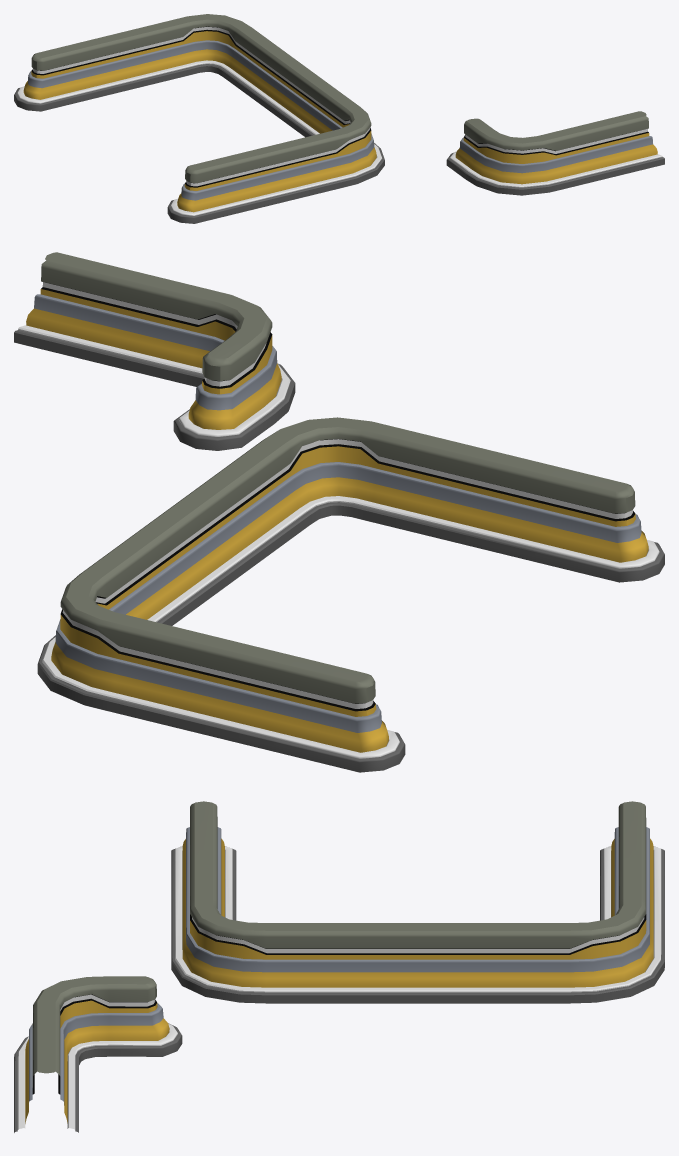
The model's file is Level9_Small_walls.fbx.
3 renders of one model, top to bottom at view 1: azimuth 30°, elevation 25°; view 2: azimuth 150°, elevation 25°; view 3: azimuth 270°, elevation 25°, orthographic. The views are drawn at different scales.
Parts seen in each view (by area): view 1: Small_wall_L9, Small_wall_L2; view 2: Small_wall_L9, Small_wall_L2; view 3: Small_wall_L9, Small_wall_L2.
Part boxes in pixels (x1,y1,x2,y2): Small_wall_L9: (14,14,384,223); Small_wall_L2: (446,111,664,195); Small_wall_L9: (37,417,664,772); Small_wall_L2: (14,252,295,450); Small_wall_L9: (171,801,664,1003); Small_wall_L2: (14,976,182,1132).
Bounding box in the file's own units: 363 × 37.38 × 344.
